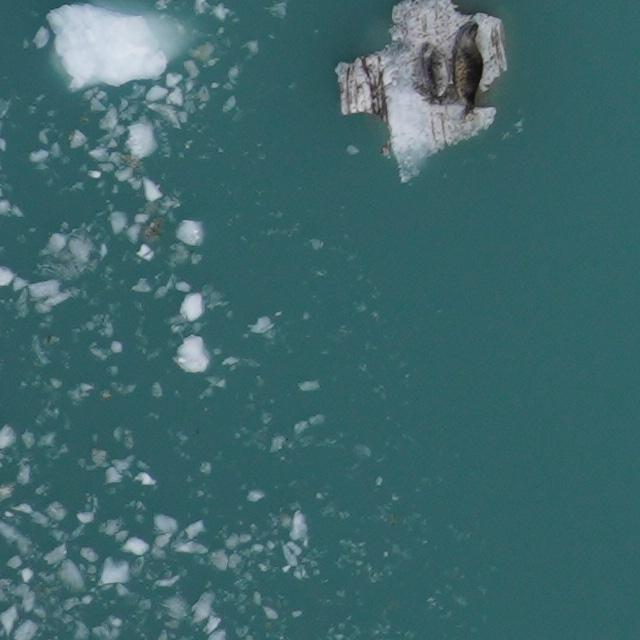seal: (450, 23, 484, 116), (419, 41, 453, 108)
